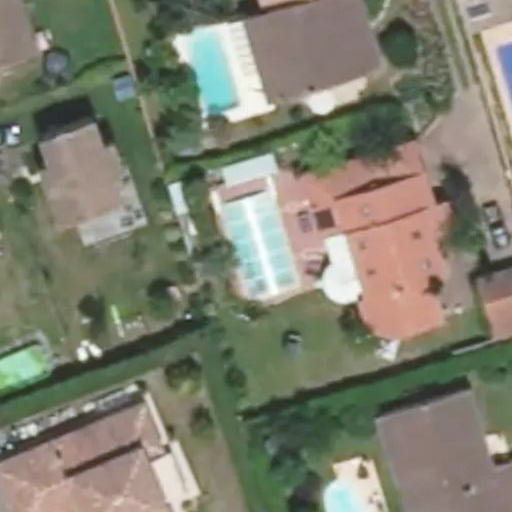pool: (221, 204, 291, 280)
